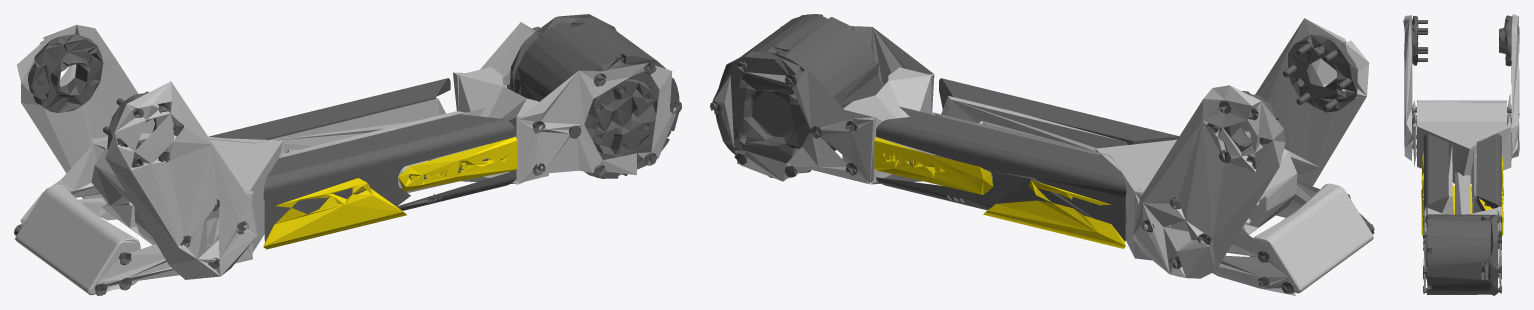
3 renders of one model, left to right at view 1: azimuth 30°, elevation 25°; view 2: azimuth 150°, elevation 25°; view 3: azimuth 270°, elevation 25°, orthographic. The views are drawn at different scales.
Parts seen in each view (by area): view 1: colored_link3_anodized_grey, colored_link3_matte_black, colored_link3_seeed_yellow, colored_link3_hardware_black; view 2: colored_link3_anodized_grey, colored_link3_matte_black, colored_link3_seeed_yellow, colored_link3_hardware_black; view 3: colored_link3_matte_black, colored_link3_anodized_grey, colored_link3_hardware_black, colored_link3_seeed_yellow.
Part boxes in pixels (bbox=[...]): colored_link3_anodized_grey: bbox=[14, 22, 676, 295]; colored_link3_matte_black: bbox=[28, 14, 679, 241]; colored_link3_seeed_yellow: bbox=[263, 136, 517, 249]; colored_link3_hardware_black: bbox=[14, 26, 681, 295]; colored_link3_anodized_grey: bbox=[713, 18, 1373, 295]; colored_link3_matte_black: bbox=[712, 14, 1357, 241]; colored_link3_seeed_yellow: bbox=[874, 137, 1125, 248]; colored_link3_hardware_black: bbox=[710, 15, 1374, 293]; colored_link3_matte_black: bbox=[1412, 15, 1512, 295]; colored_link3_anodized_grey: bbox=[1403, 14, 1519, 293]; colored_link3_hardware_black: bbox=[1405, 20, 1518, 293]; colored_link3_seeed_yellow: bbox=[1421, 151, 1503, 235].
Bounding box in the file's own units: 0.2973 × 0.1047 × 0.0825.
